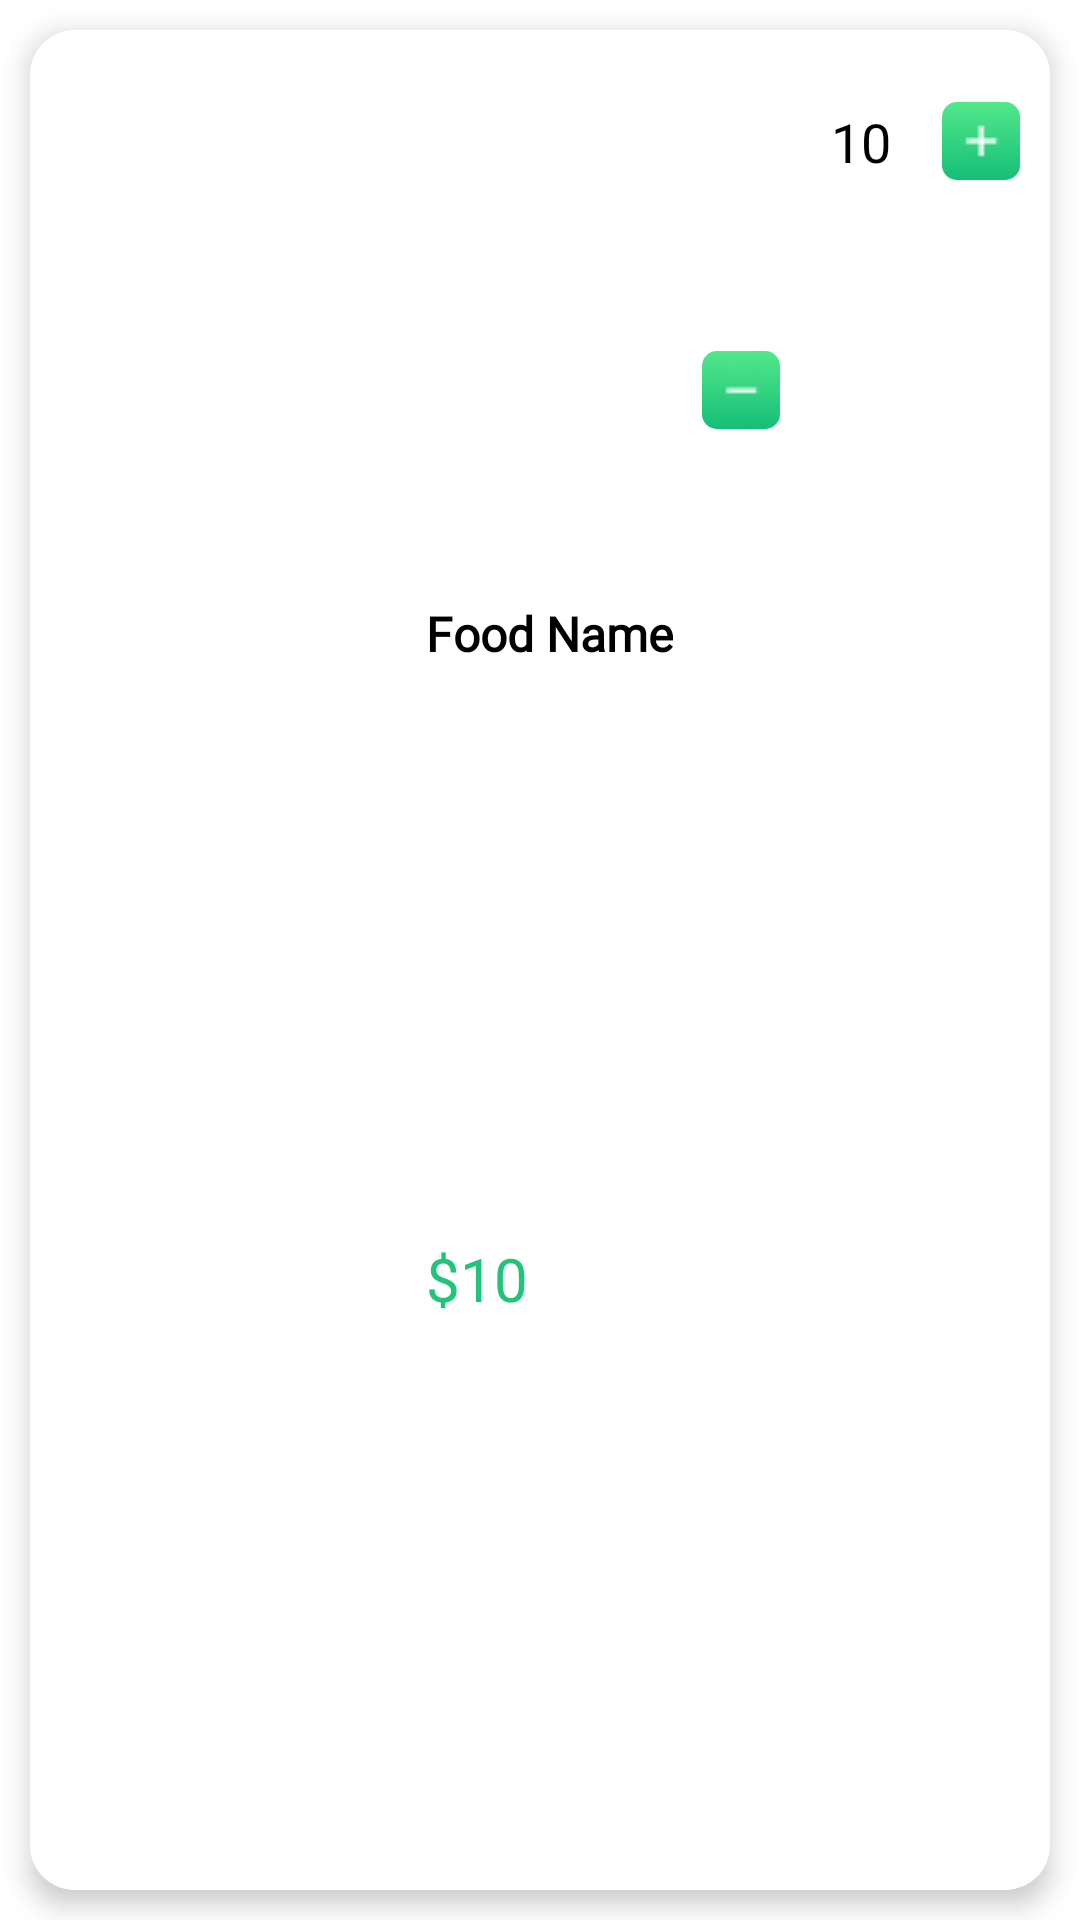

Icons on this 1080 x 1920 Android screen, each with the point to tap as (x,y):
minus sign: (741,390)
plus sign: (981,141)
